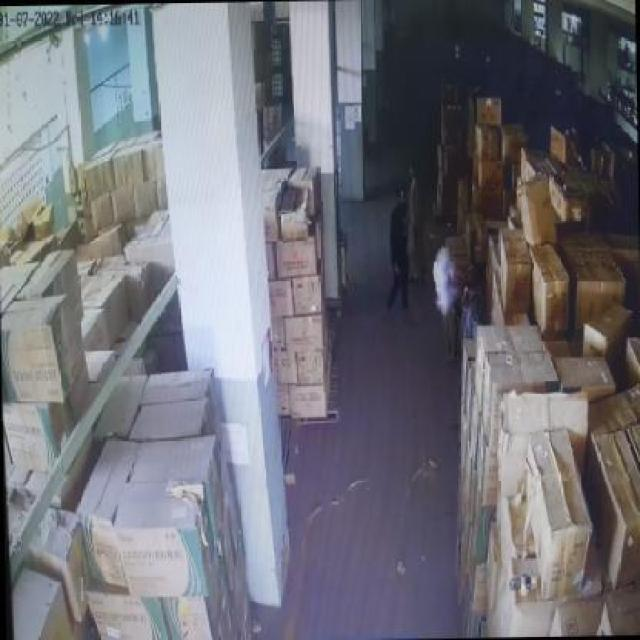fire: (430, 235, 459, 320)
